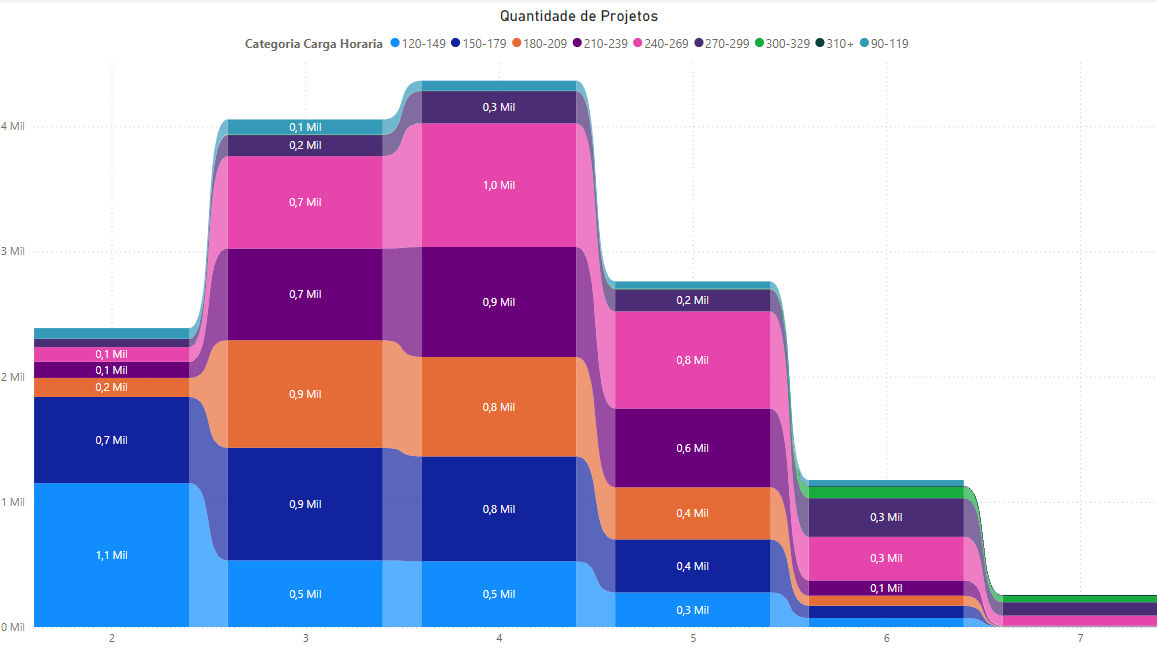

This screenshot's page, from the dashboard's own definition file:
{"tool":"powerbi","page":{"name":"Qt Proj x Crg Hor","canvas":[1280,720],"ordinal":1},"visuals":[{"type":"columnChart","title":"Quantidade de Projetos","fields":{"Category":["HR_Attrition.number_project"],"Y":["CountNonNull(HR_Attrition.left)"],"Series":["HR_Attrition.CategoriaCargaHoraria"]},"box":[0,9.6,1280.3,710.8],"z":0}]}

Visuals, with their boxes in screenshot pixels (x1, y1, x2, y2), scaled from the page's 1280x720 canvas onto the 1157x652 screenshot:
"Quantidade de Projetos" columnChart: {"left": 0, "top": 9, "right": 1156, "bottom": 651}
